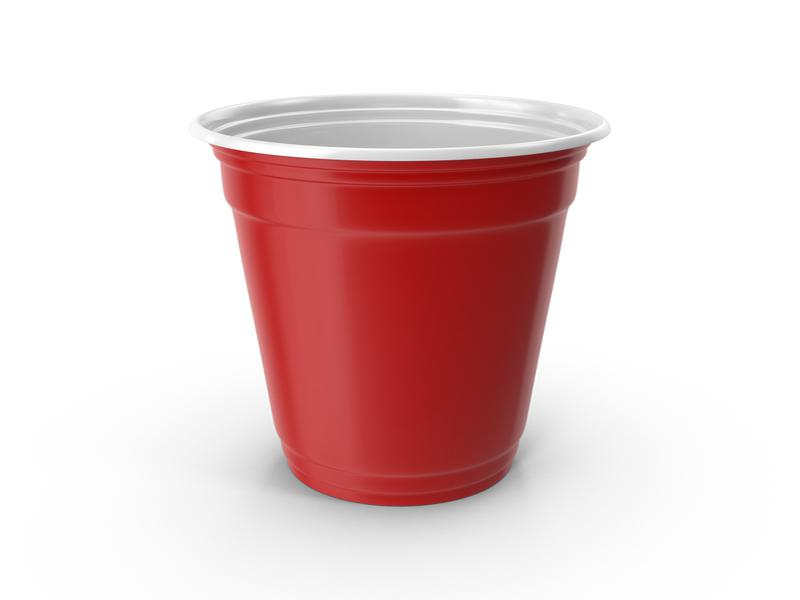cup: (191, 80, 612, 514)
